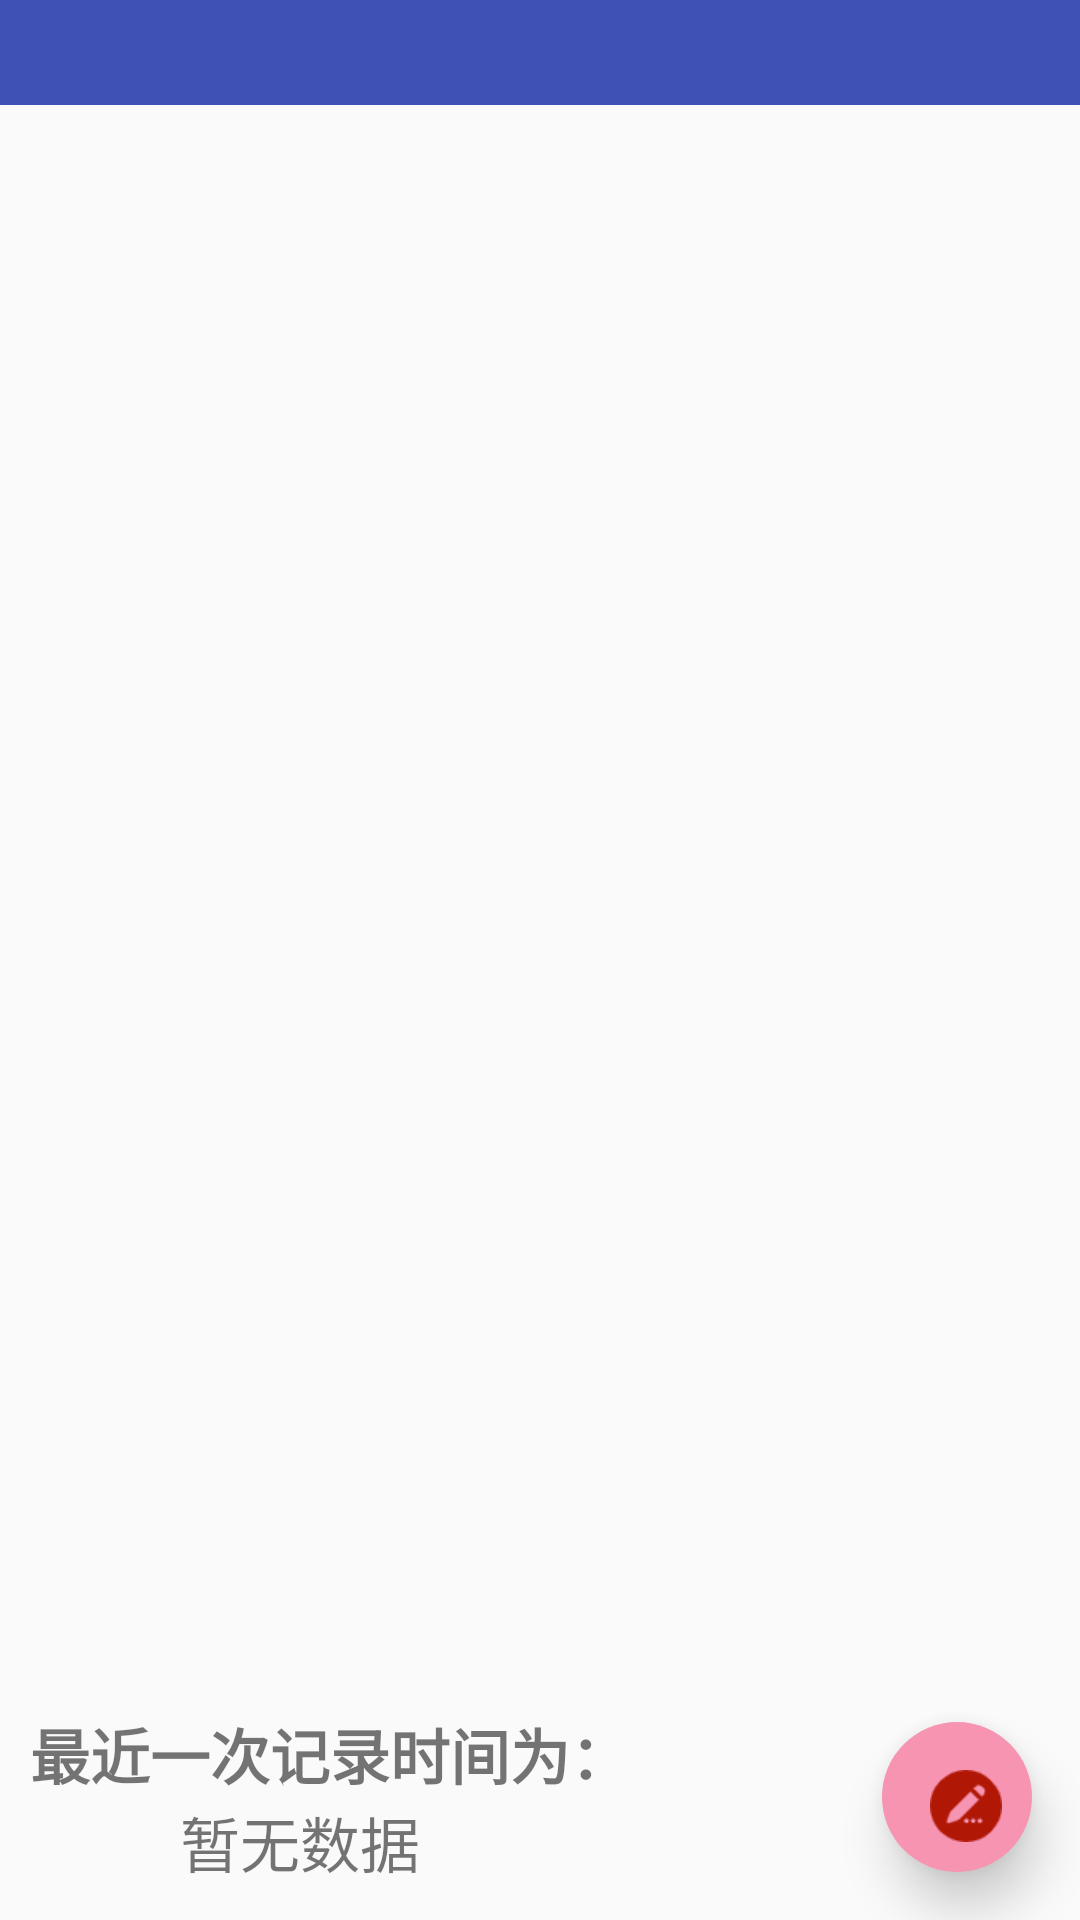

Screen size 1080x1920. Icon name, then its box in pixels as [x1=x1, y1=y1, x2=x2, y2=y2]:
write tiny: [x1=882, y1=1722, x2=1032, y2=1872]
